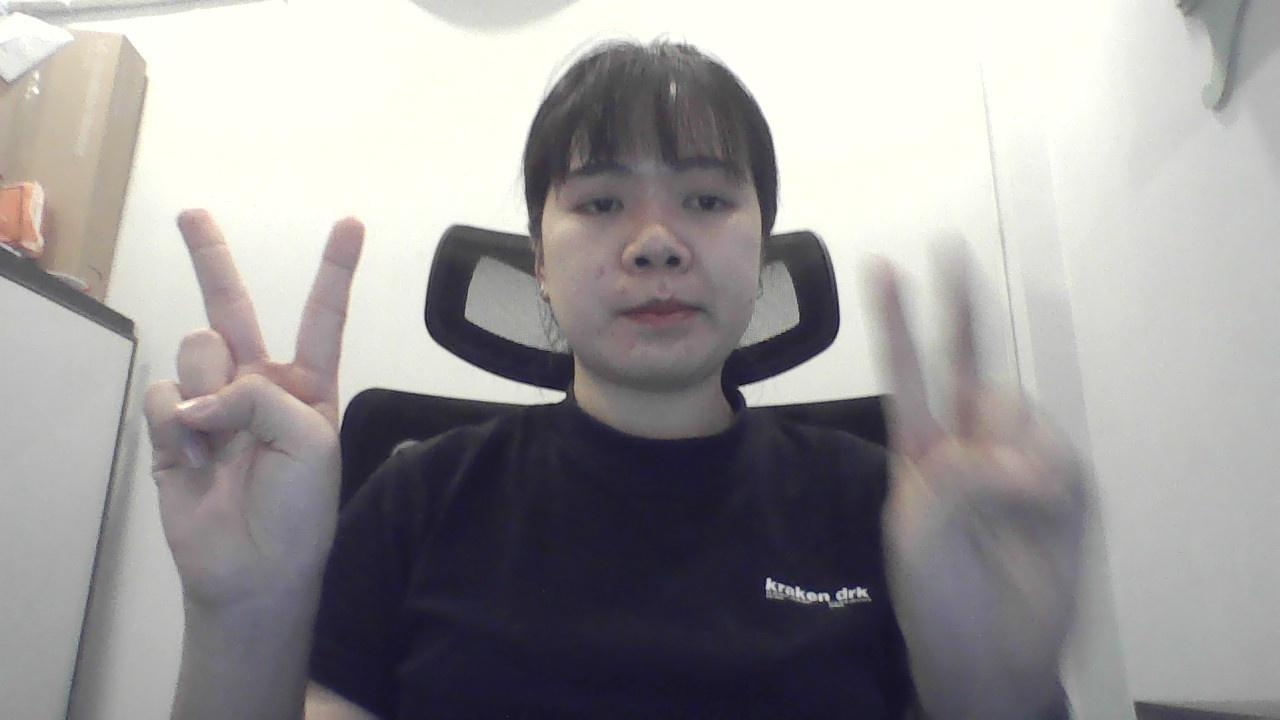V: (122, 172, 364, 614)
